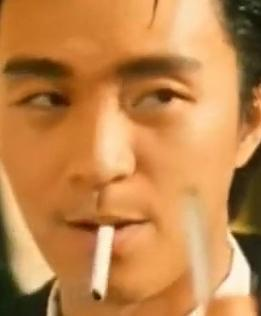smoke: (86, 223, 114, 300)
